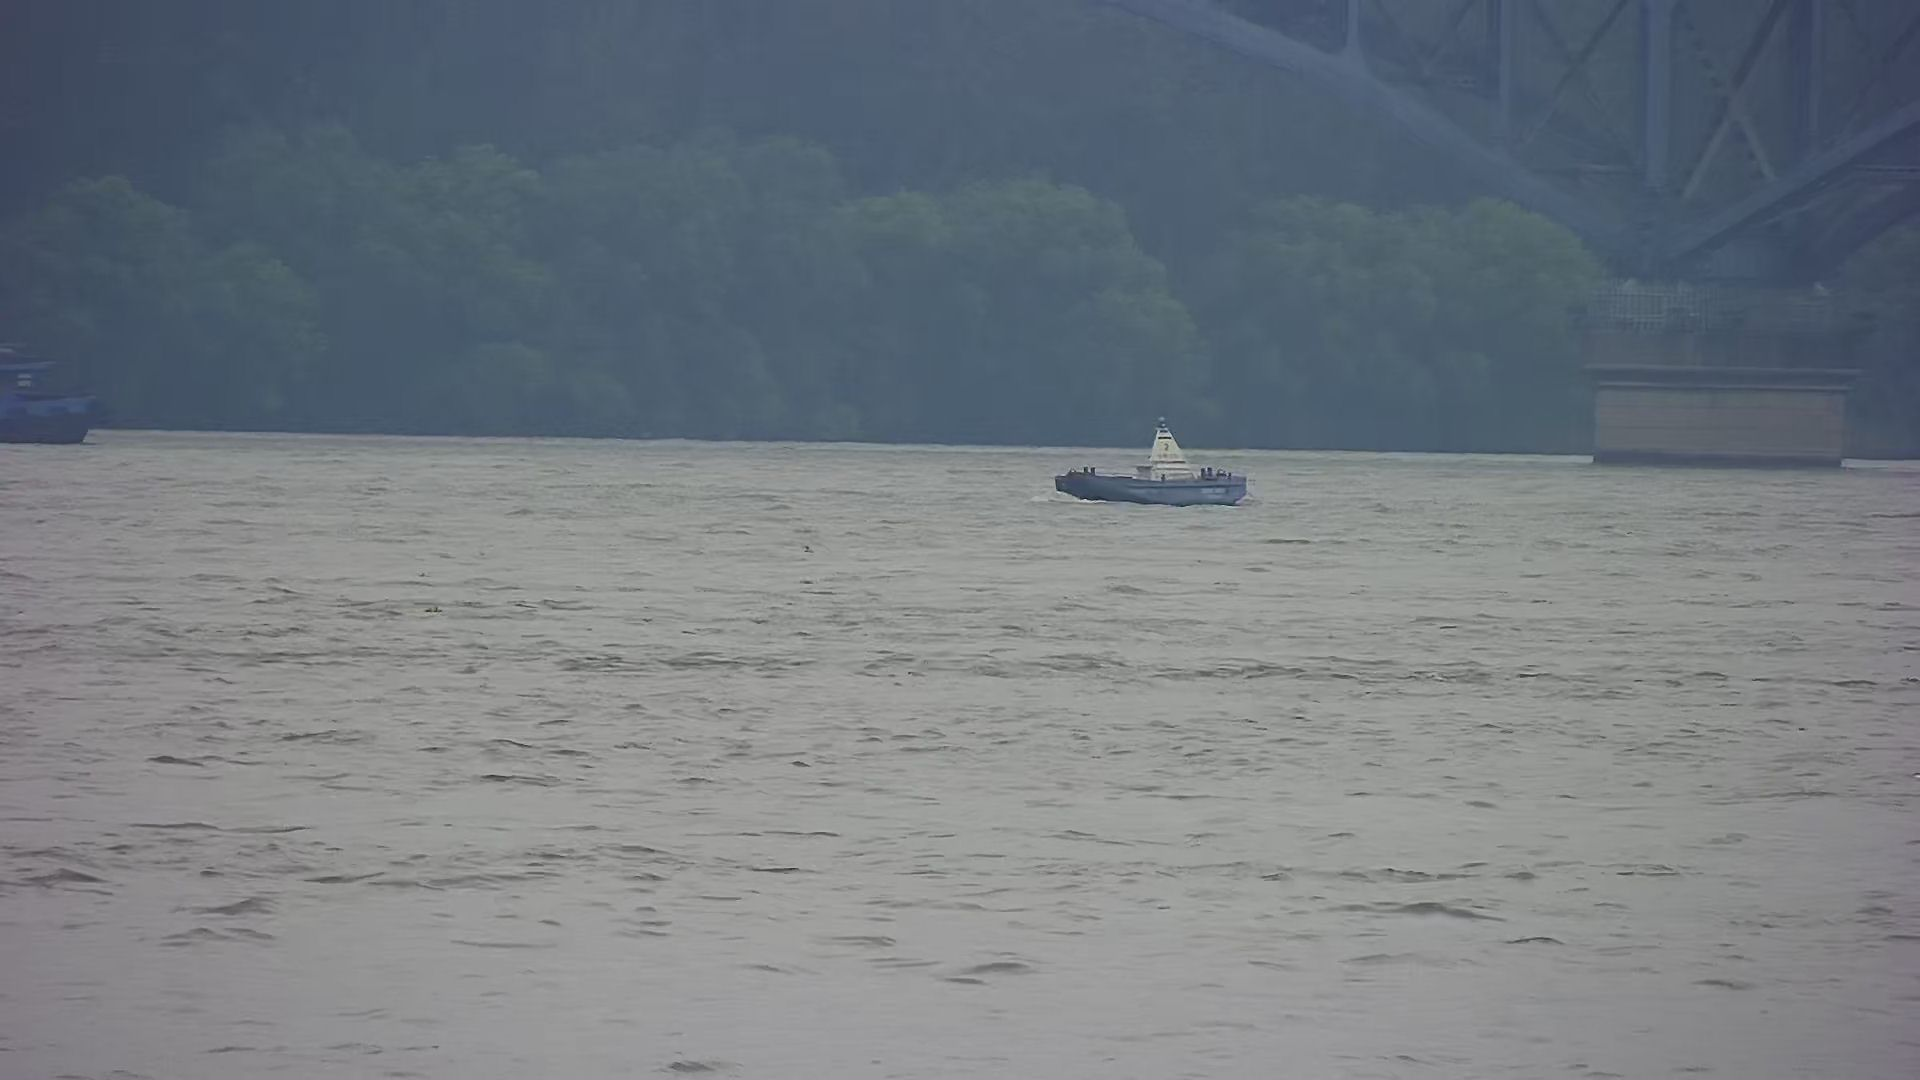boat: (1036, 398, 1273, 521)
bridge: (1098, 1, 1916, 467)
